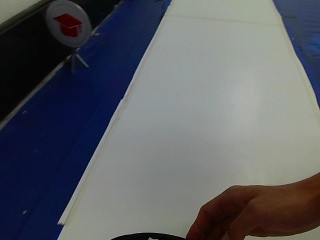school: (43, 1, 91, 49)
